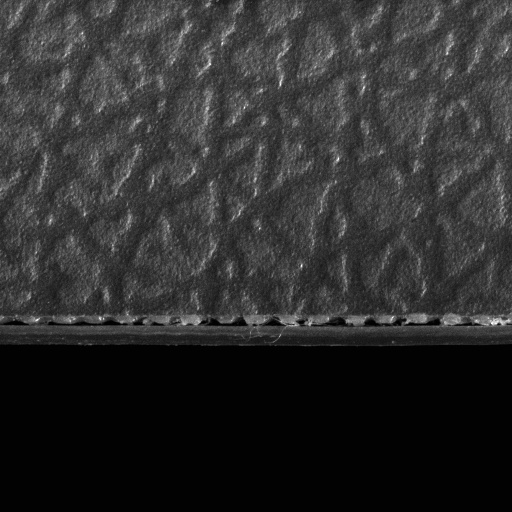kaijiao: (0, 311, 511, 348)
